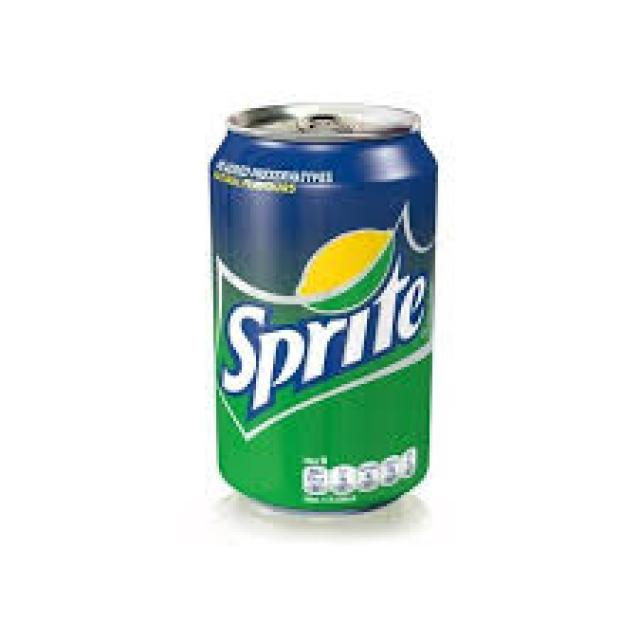aluminum_can: (210, 108, 438, 511)
